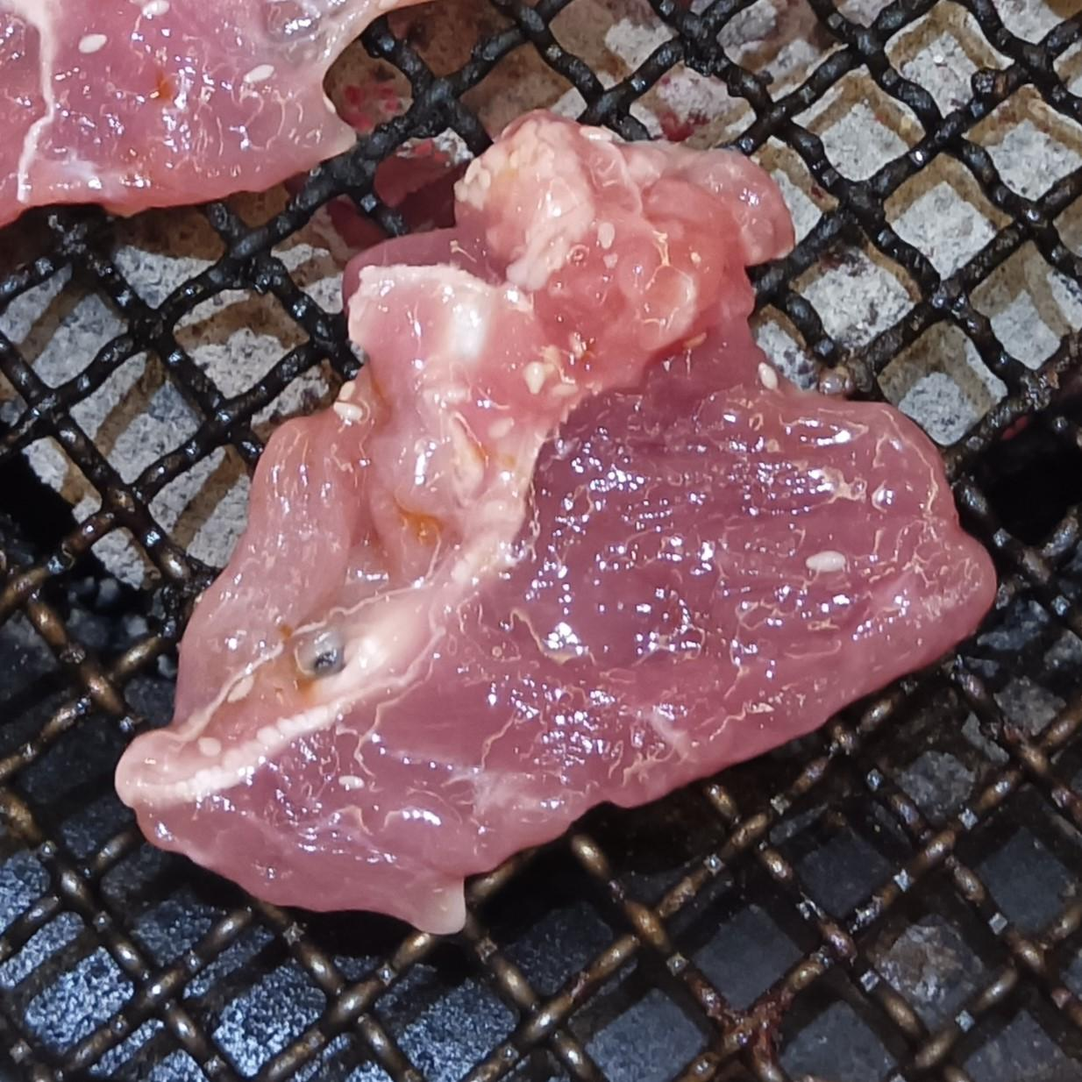Undercooked: (117, 111, 995, 933), (0, 0, 420, 225)
